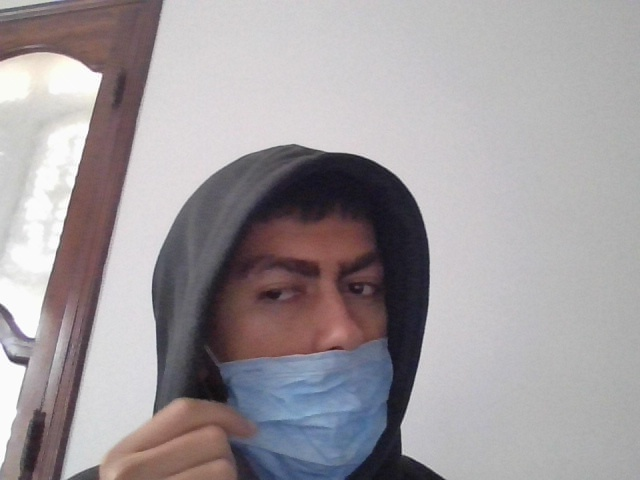mask_weared_incorrect: (208, 158, 417, 476)
